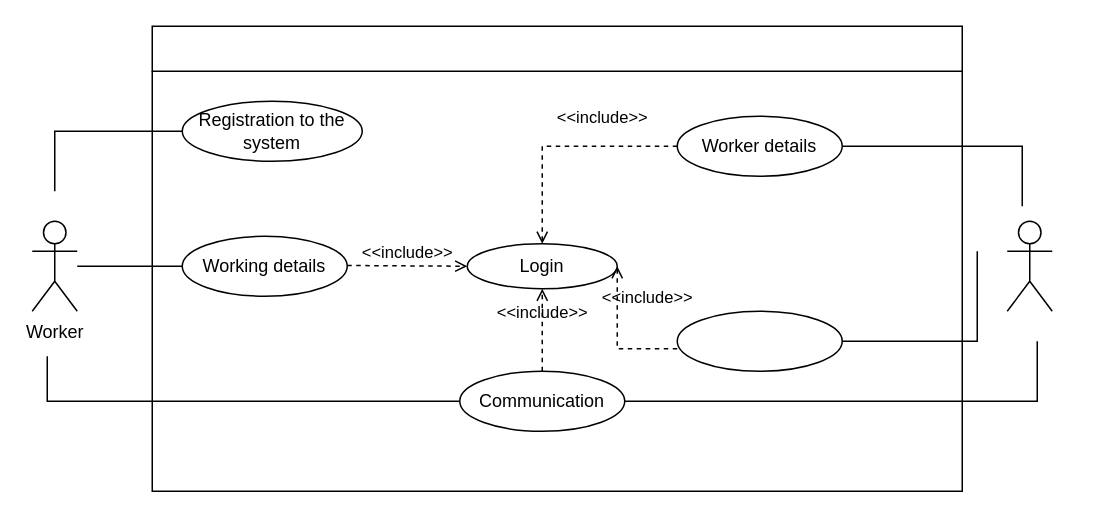
Image size: 1098x518. Some labels were removed from this diagram. Here are the shapes that lost their labels. From the top down, the box of each, then its label:
(151, 25, 962, 71): Smart Helmet for Large Scale Construction Sites
(1006, 220, 1052, 311): Supervisor
(676, 310, 842, 371): Current status of the site
